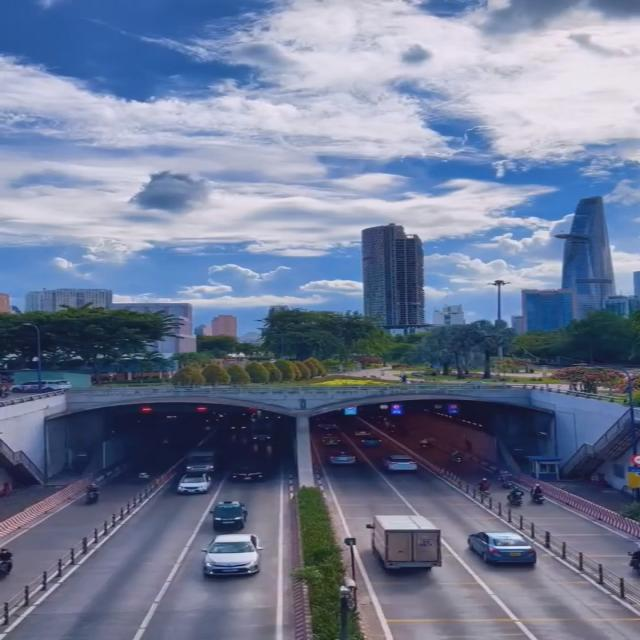bus: (182, 449, 218, 474)
car: (202, 534, 260, 583), (469, 532, 537, 566), (213, 499, 248, 531), (176, 472, 213, 496), (382, 453, 420, 474)
motorbike: (526, 484, 548, 505), (0, 548, 13, 582), (476, 477, 494, 498), (84, 482, 101, 504), (509, 488, 526, 507)
truck: (368, 514, 441, 572)
